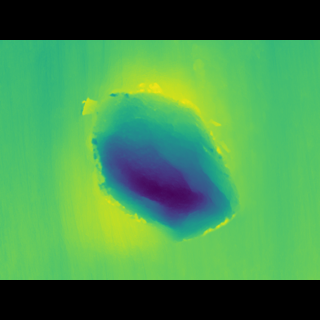Loch: (80, 80, 245, 230)
